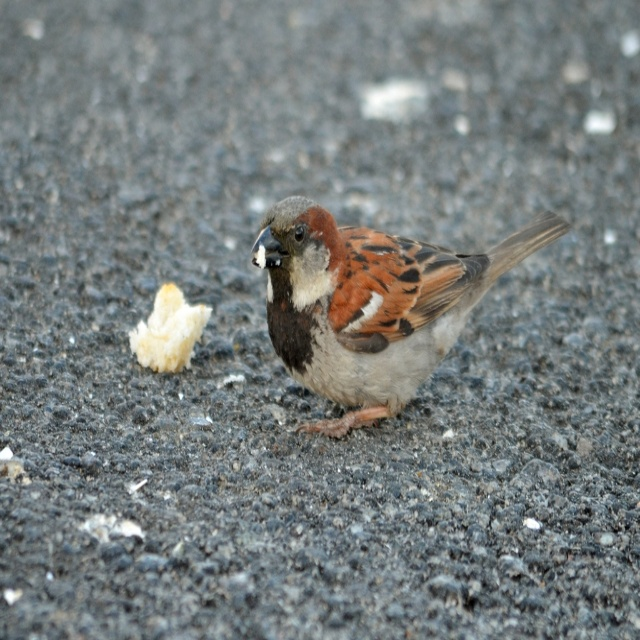Sparrow: (252, 195, 570, 440)
